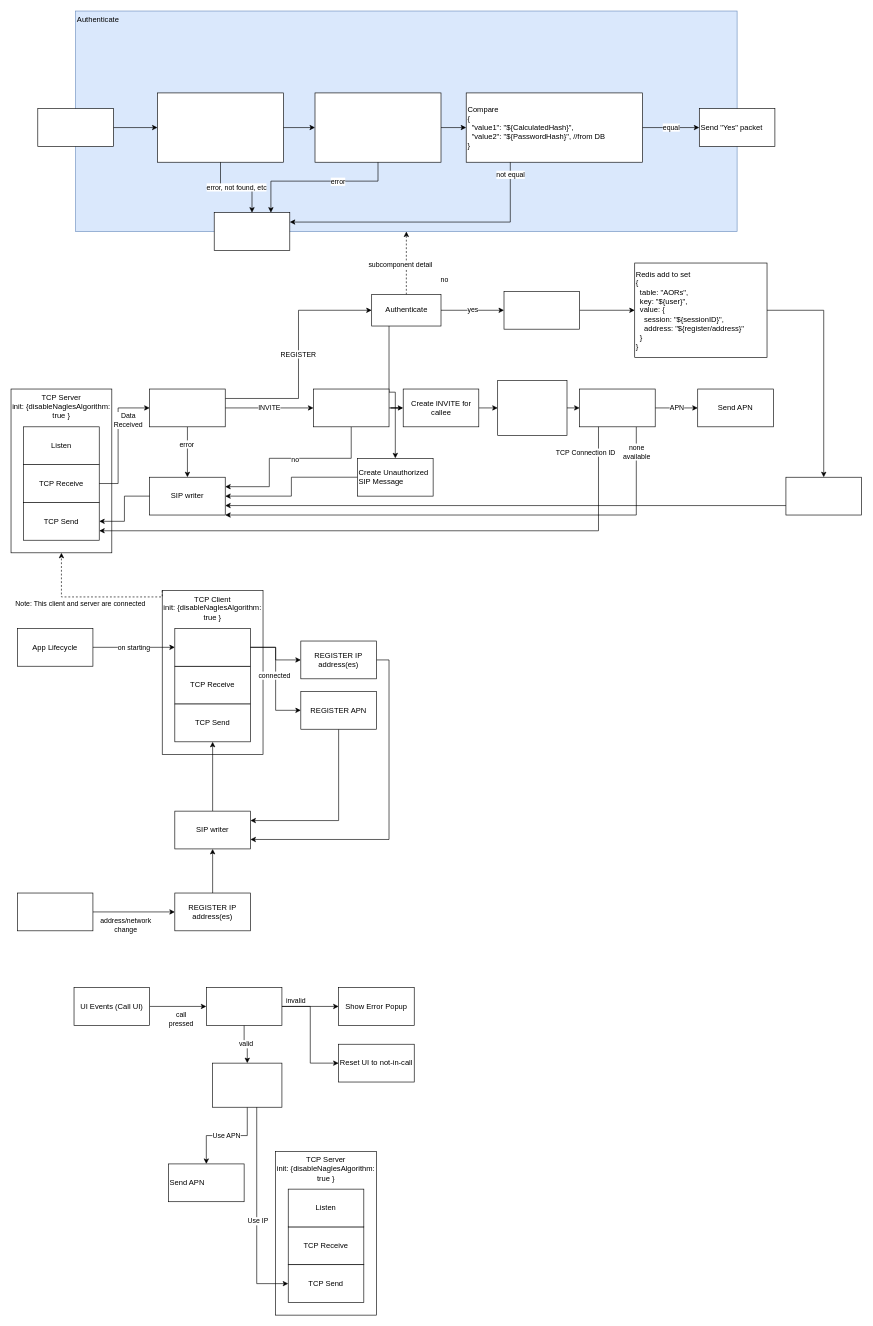
This 873x1326 diagram has some shape labels left out. Each missing label, with the centre of its shape:
check phone #: [244,1006]
Choose best address: [617,407]
Connect: [212,647]
Create OK SIP message: [823,496]
Find an address for the recipient (APN, IP): [247,1084]
Generate new session: [541,310]
Hash { algorithm: "?", salt: "?", hasParameter: "password" }: [377,127]
Network Events: [55,911]
Redis GET { table: "userPasswordHashes", value: "${user}" }: [220,127]
Send "No" packet: [252,231]
SIP extractor: [187,407]
Sole sub-component input: [75,127]
SomeNoSQL Get { table: "AORs", user: "${user}" }: [532,407]
Validate SessionID: [351,407]
